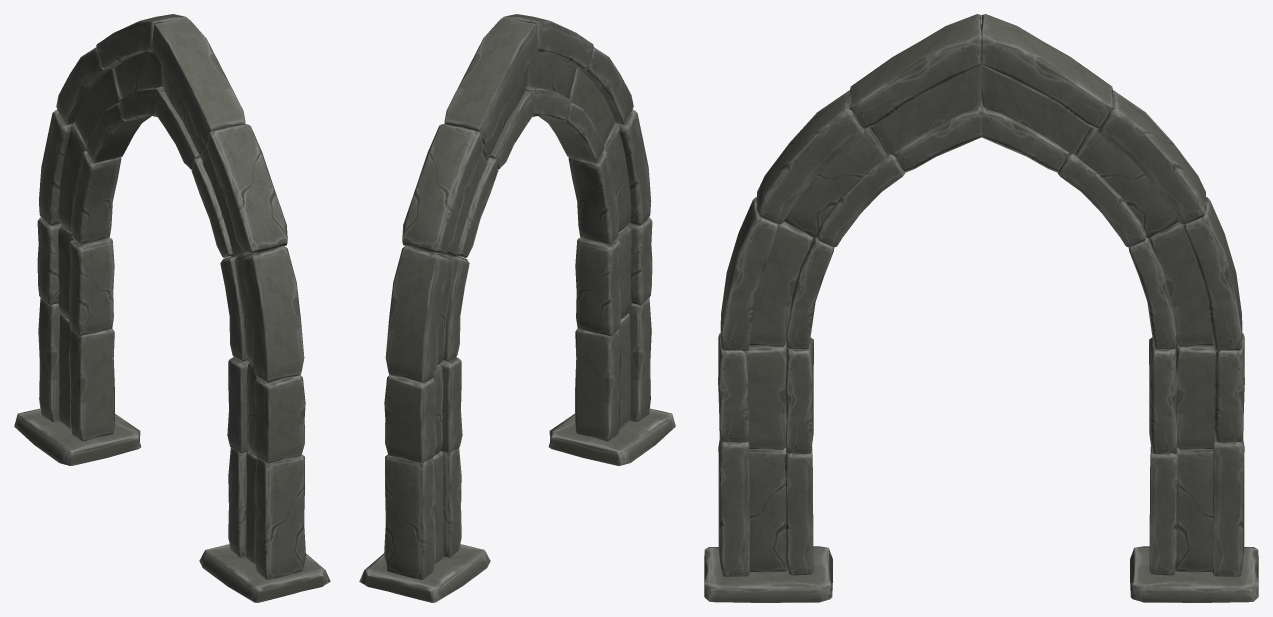
The model's file is Arch_A.fbx.
3 views of the same model, side by side, from view 1: azimuth 30°, elevation 25°; view 2: azimuth 150°, elevation 25°; view 3: azimuth 270°, elevation 25° (orthographic). The views are drawn at different scales.
Visible parts, largest first — view 1: Brick_LP.020; view 2: Brick_LP.020; view 3: Brick_LP.020.
Boxes of the visible parts, left/top/right/bottom form: Brick_LP.020: left=14, top=14, right=330, bottom=602; Brick_LP.020: left=359, top=14, right=675, bottom=602; Brick_LP.020: left=704, top=14, right=1258, bottom=602.
Bounding box in the file's own units: 454 × 2615 × 2350.
